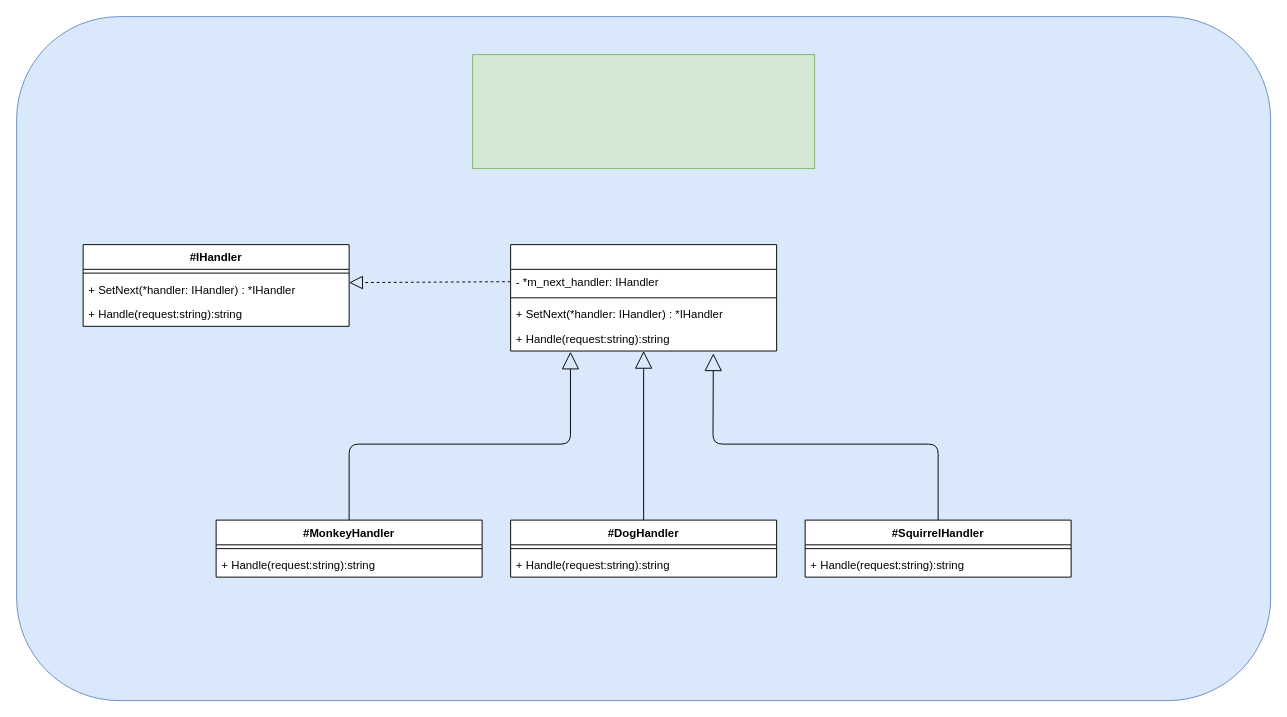
Image size: 1287x717. Some labels were removed from this diagram. Here are the shapes that lost their labels. From the top down, the box of each, then its label:
(472, 54, 815, 169): Chain Of Responsability Design Pattern
(510, 244, 777, 351): #AbstractHandler
